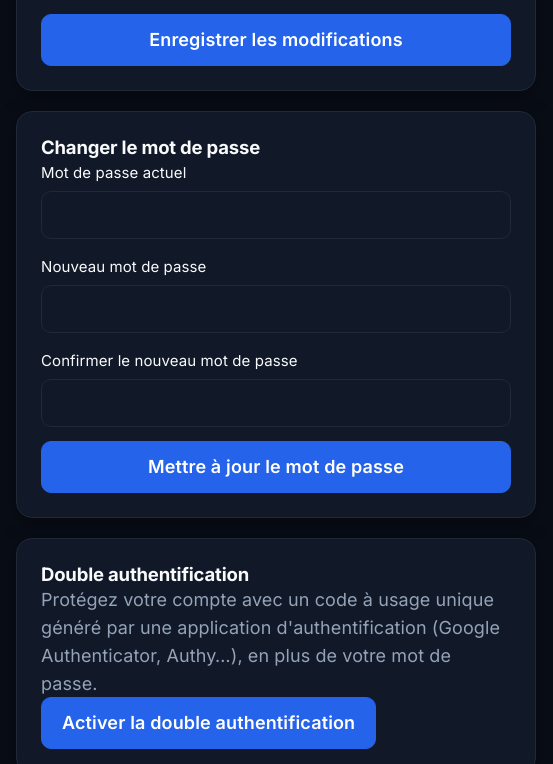
MonProfil — double authentification › affiche une erreur si le code de confirmation est invalide
(page scrolled)
Click the button "Activer la double authentification" at (209, 723), box x1=41 y1=697 x2=376 y2=749
(page scrolled)
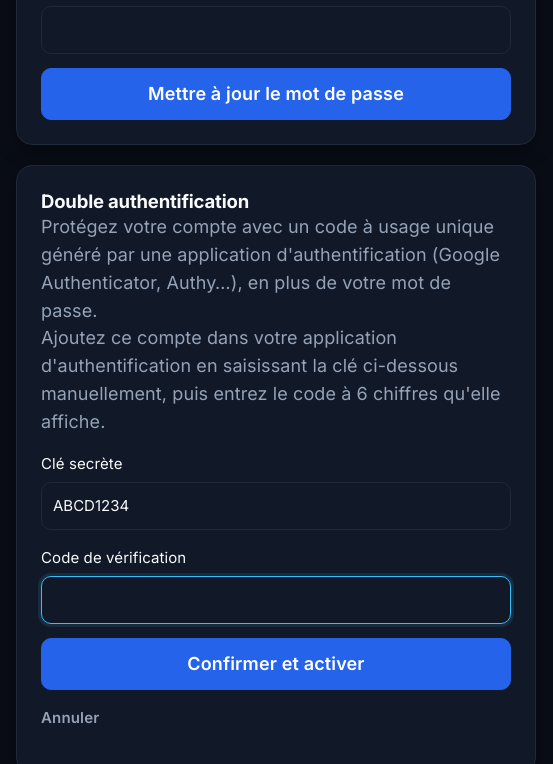
Expected: the field showing "ABCD1234" is shown, x1=41 y1=482 x2=511 y2=530
Type "000000" into the field labelled "Code de vérification" at (276, 600), box x1=41 y1=576 x2=511 y2=624
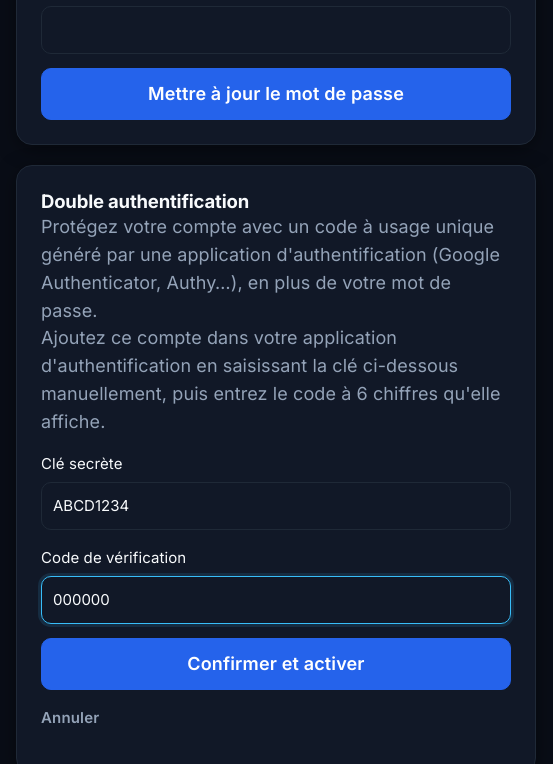
Click the button "Confirmer et activer" at (276, 664), box x1=41 y1=638 x2=511 y2=690
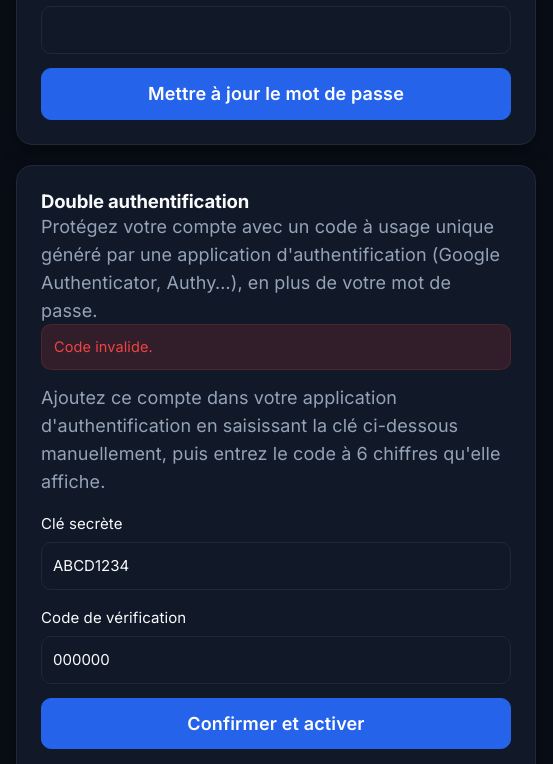
Expected: the text "Code invalide." is shown, x1=41 y1=324 x2=511 y2=370
